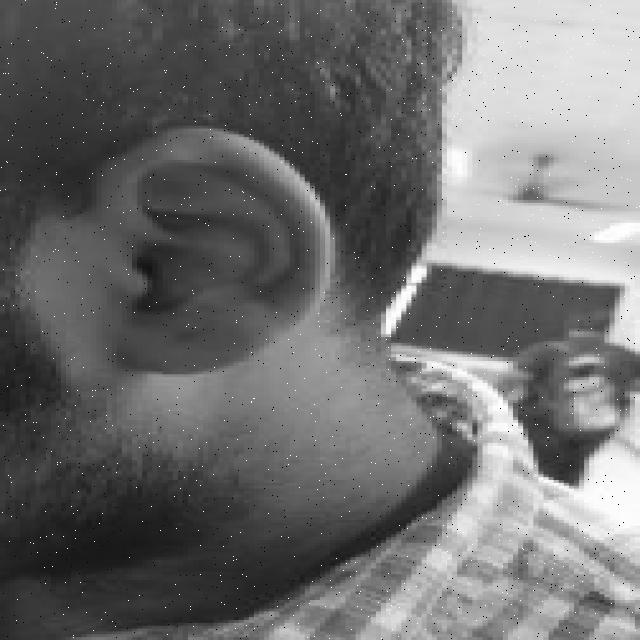ear: (91, 126, 325, 371)
